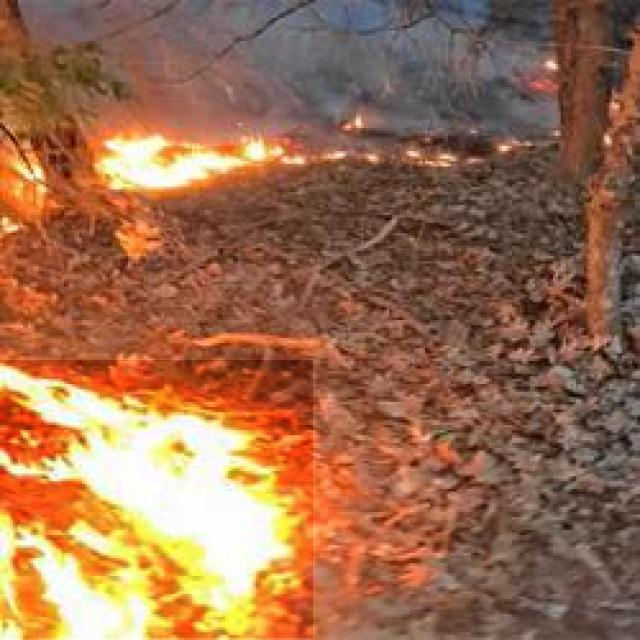Fire: (0, 360, 313, 638), (0, 119, 640, 193)
